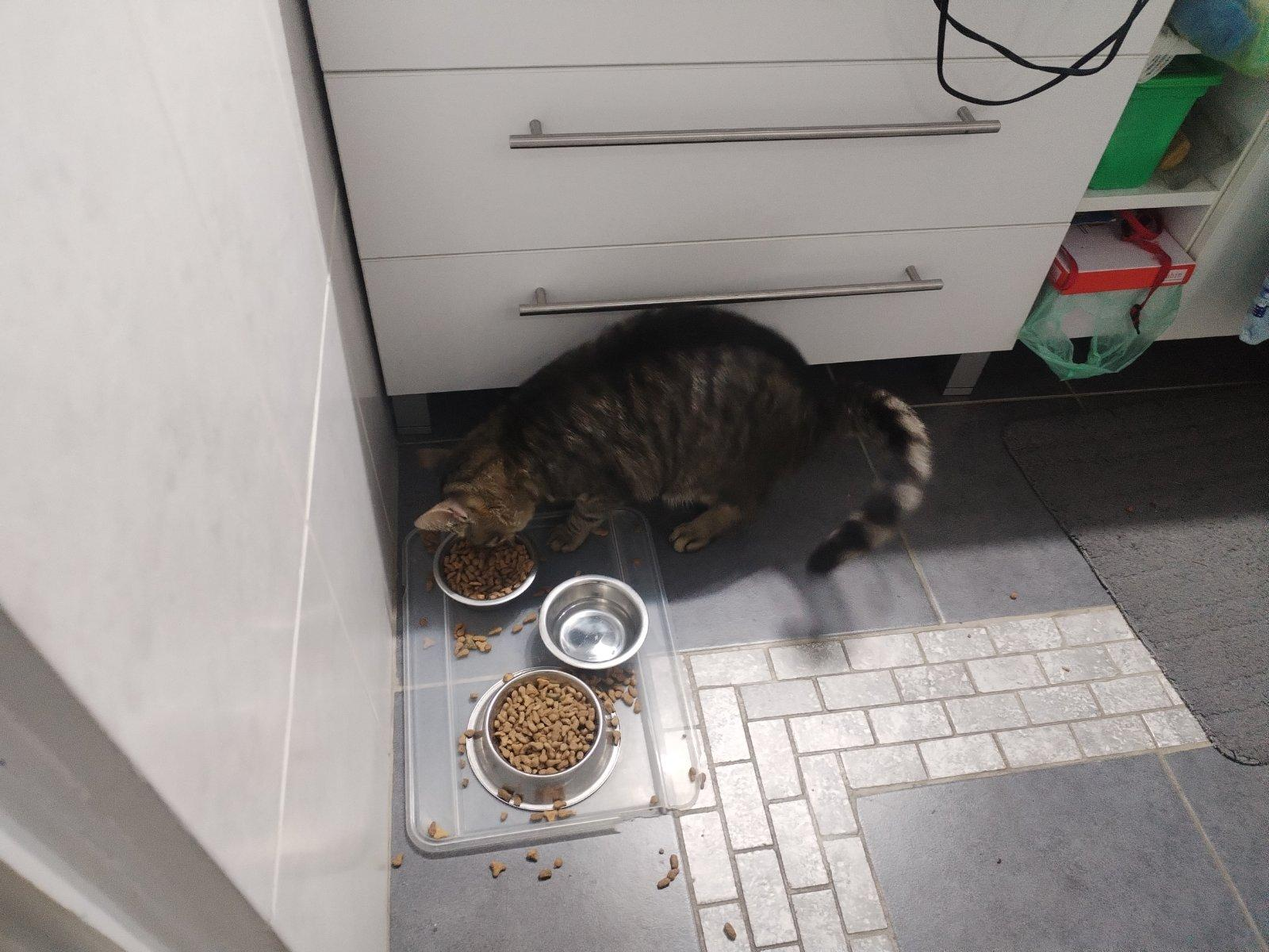macka: (408, 299, 936, 583)
